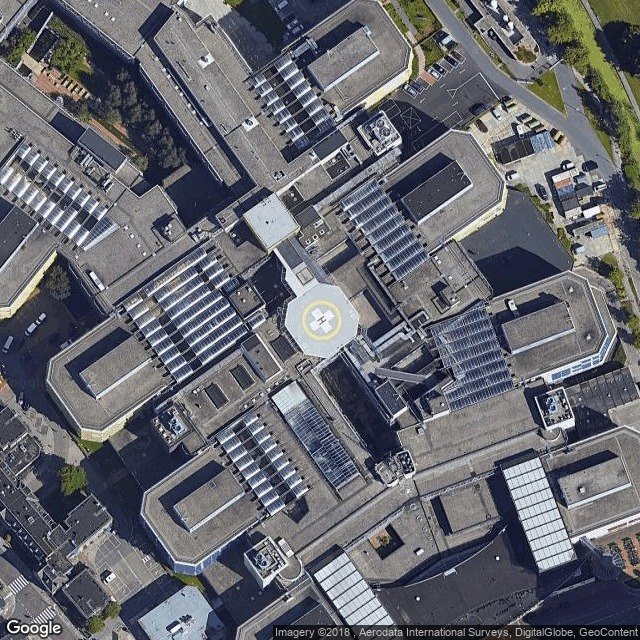heliport: (314, 314, 327, 326)
